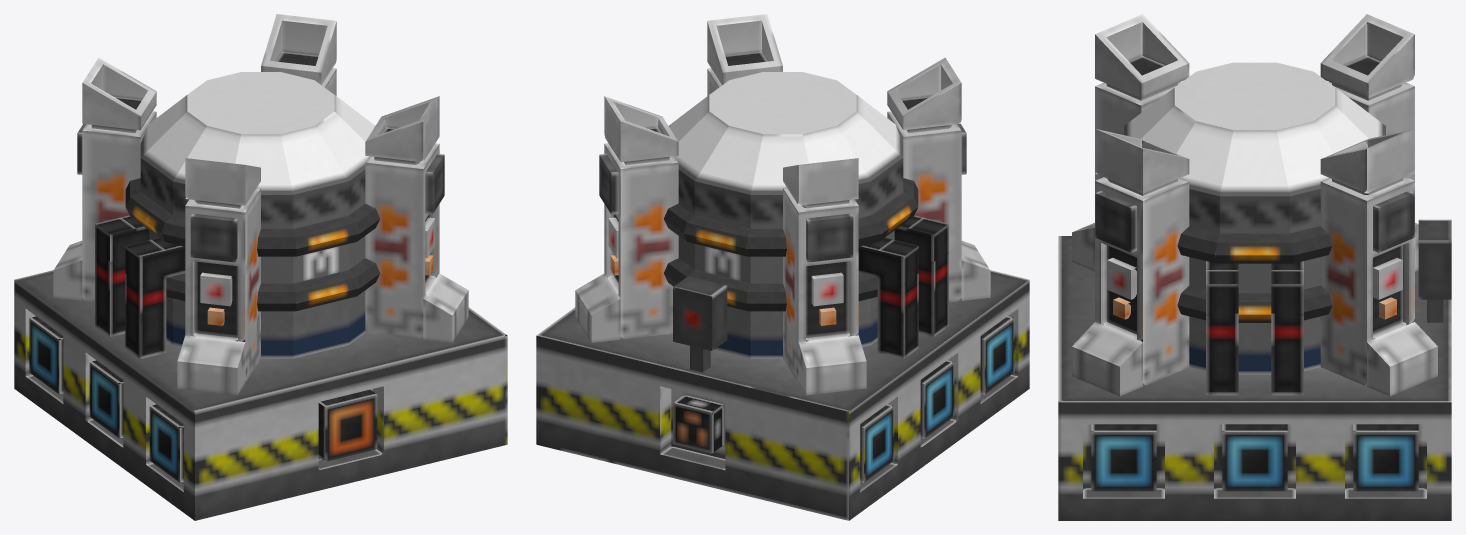
The model's file is vacuum_melting_furnace.obj.
The picture shows the model from 3 angles, left to right: view 1: azimuth 30°, elevation 25°; view 2: azimuth 150°, elevation 25°; view 3: azimuth 270°, elevation 25°; orthographic projection. The views are drawn at different scales.
Parts seen in each view (by area): view 1: cube.003_cube.base_cube.008, cube.001_cube, cube_cube.002, Torus, cube.004_cube.001; view 2: cube.003_cube.base_cube.008, cube.001_cube, cube_cube.002, cube.004_cube.001, Torus, redstone; view 3: cube.001_cube, cube.003_cube.base_cube.008, cube_cube.002, cube.004_cube.001, Torus, redstone.
Part boxes in pixels (<box>): cube.003_cube.base_cube.008: <box>14,270,507,520</box>; cube.001_cube: <box>53,14,468,395</box>; cube_cube.002: <box>140,72,375,358</box>; Torus: <box>125,178,380,311</box>; cube.004_cube.001: <box>95,215,185,358</box>; cube.003_cube.base_cube.008: <box>536,270,1029,520</box>; cube.001_cube: <box>575,14,990,395</box>; cube_cube.002: <box>668,72,903,358</box>; cube.004_cube.001: <box>858,215,948,358</box>; Torus: <box>663,178,918,311</box>; redstone: <box>673,276,727,372</box>; cube.001_cube: <box>1072,14,1437,396</box>; cube.003_cube.base_cube.008: <box>1058,236,1451,520</box>; cube_cube.002: <box>1124,62,1385,374</box>; cube.004_cube.001: <box>1206,261,1303,395</box>; Torus: <box>1177,226,1332,322</box>; redstone: <box>1418,219,1451,322</box>.
Bounding box in the file's own units: 3 × 3 × 3.
